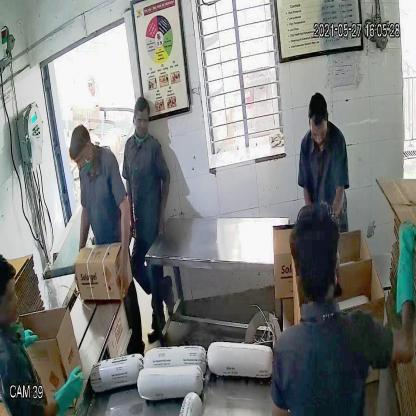no_goggles: (305, 121, 330, 143), (132, 112, 153, 132), (70, 151, 92, 170)
